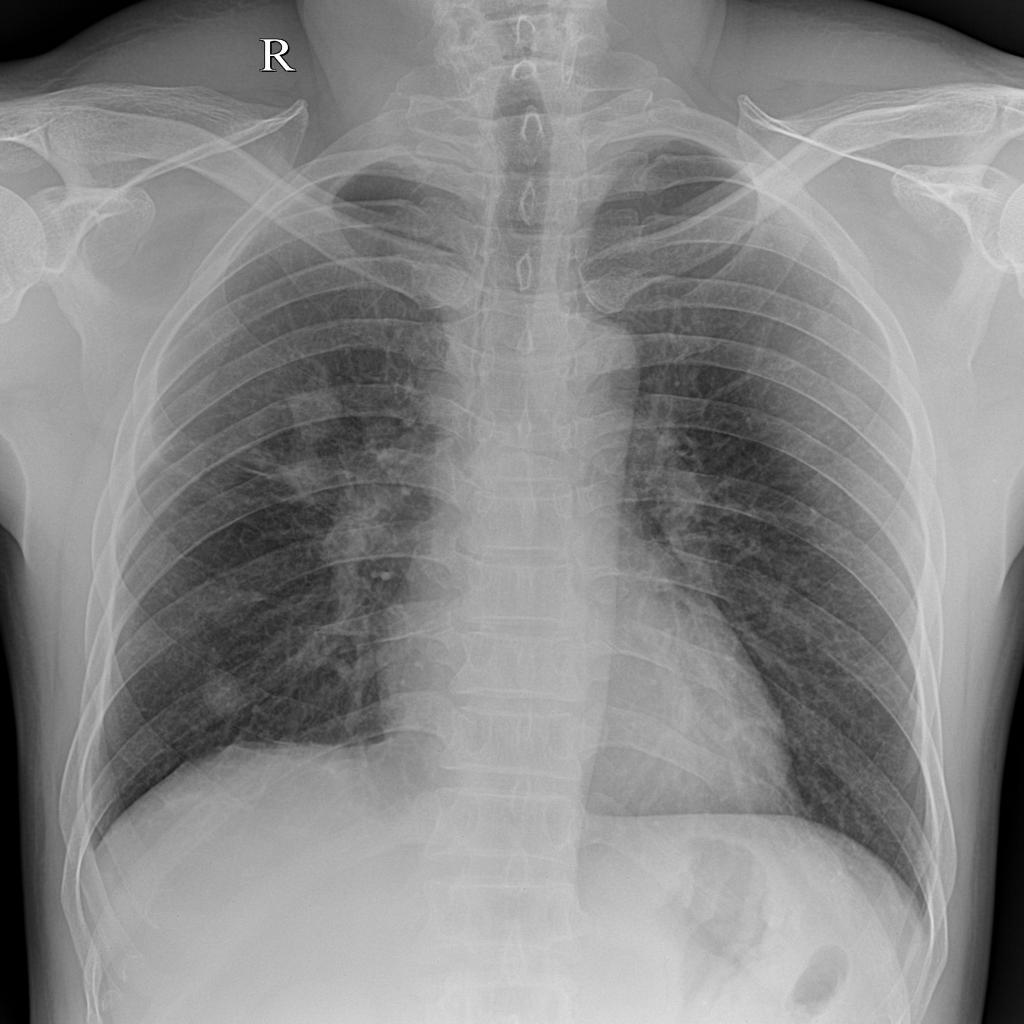Nodule: (234, 384, 364, 521), (183, 656, 258, 738)
